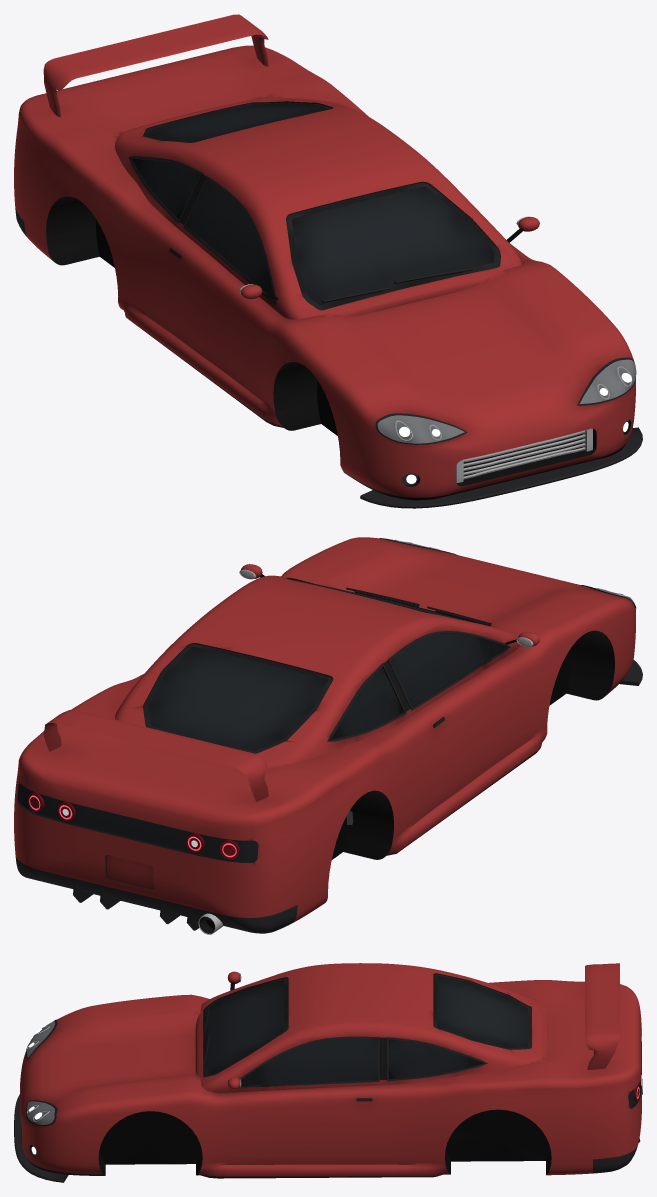
File: ronin.m.glb
3 views of the same model, one above another, from view 1: azimuth 30°, elevation 25°; view 2: azimuth 150°, elevation 25°; view 3: azimuth 270°, elevation 25° (orthographic). The views are drawn at different scales.
Visible parts, largest first — view 1: paint_lodm, window_lodm, trim_lodm, carbon_lodm, head_lodm, chrome_lodm, grille_lodm; view 2: paint_lodm, window_lodm, trim_lodm, carbon_lodm, glass_lodm, tail_lodm; view 3: paint_lodm, window_lodm, trim_lodm, carbon_lodm, head_lodm.
Boxes of the visible parts, x1,y1,x2,y2 form: paint_lodm: (14, 14, 635, 497); window_lodm: (132, 103, 499, 304); trim_lodm: (46, 101, 636, 500); carbon_lodm: (15, 208, 642, 508); head_lodm: (377, 359, 636, 485); chrome_lodm: (239, 216, 632, 482); grille_lodm: (463, 433, 582, 476); paint_lodm: (14, 537, 635, 922); window_lodm: (148, 580, 506, 751); trim_lodm: (18, 538, 636, 933); carbon_lodm: (15, 660, 642, 933); glass_lodm: (19, 784, 258, 861); tail_lodm: (27, 792, 239, 859); paint_lodm: (20, 963, 641, 1176); window_lodm: (208, 976, 531, 1085); trim_lodm: (21, 973, 641, 1178); carbon_lodm: (14, 1094, 640, 1182); head_lodm: (26, 1020, 54, 1155).
Size of what is drawn, in the model's own units: 1.98 by 1.12 by 4.65.
